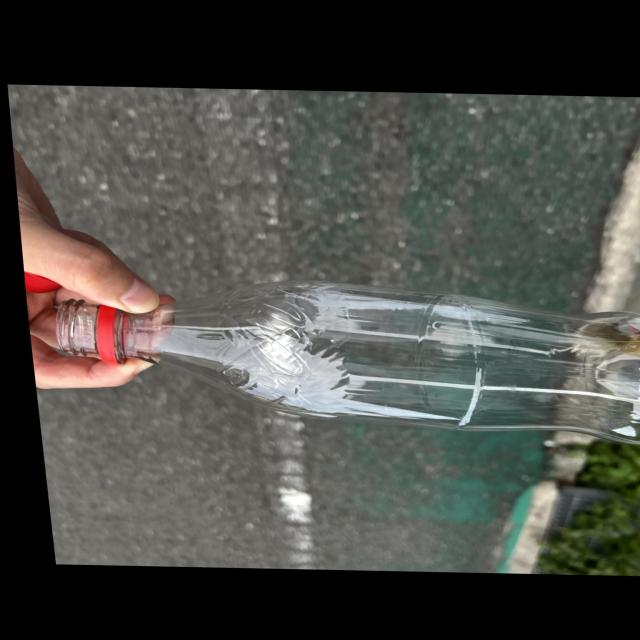empty: (52, 282, 640, 444)
